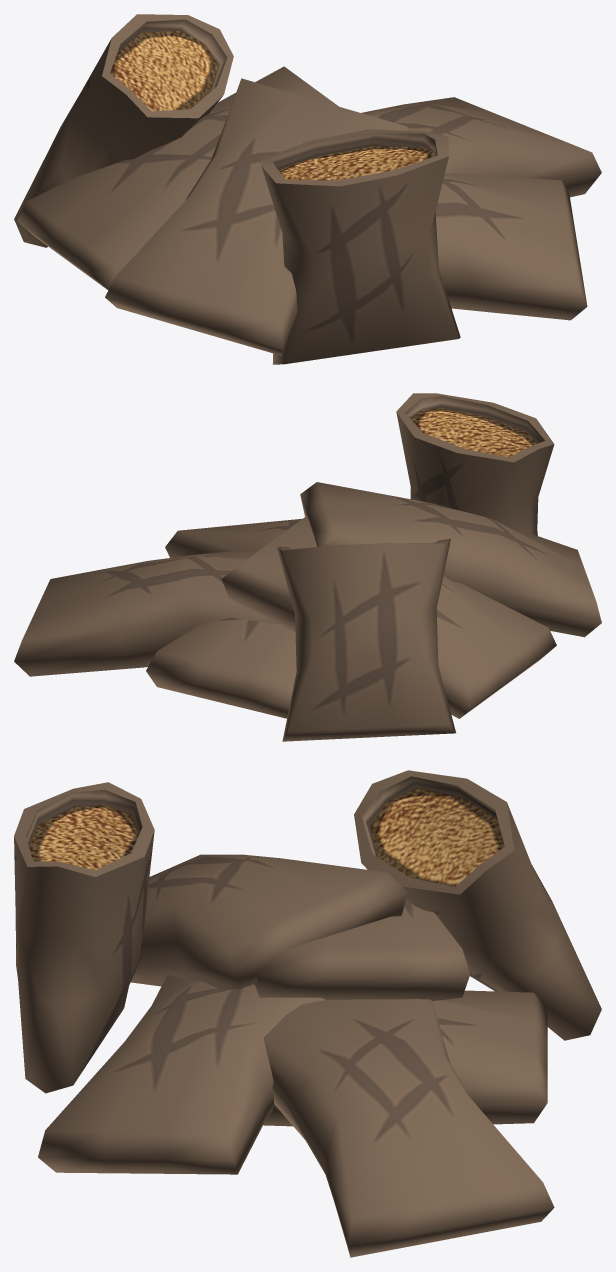
File: mod_prop_sacksofgrain.fbx
3 views of the same model, one above another, from view 1: azimuth 30°, elevation 25°; view 2: azimuth 150°, elevation 25°; view 3: azimuth 270°, elevation 25° (orthographic). The views are drawn at different scales.
Parts seen in each view (by area): view 1: mod_prop_sacksofgrain; view 2: mod_prop_sacksofgrain; view 3: mod_prop_sacksofgrain.
Boxes of the visible parts, bbox=[...] form: mod_prop_sacksofgrain: bbox=[14, 14, 601, 364]; mod_prop_sacksofgrain: bbox=[14, 393, 601, 741]; mod_prop_sacksofgrain: bbox=[14, 770, 601, 1257].
Size of the model in its own units: 199 by 74.97 by 161.
